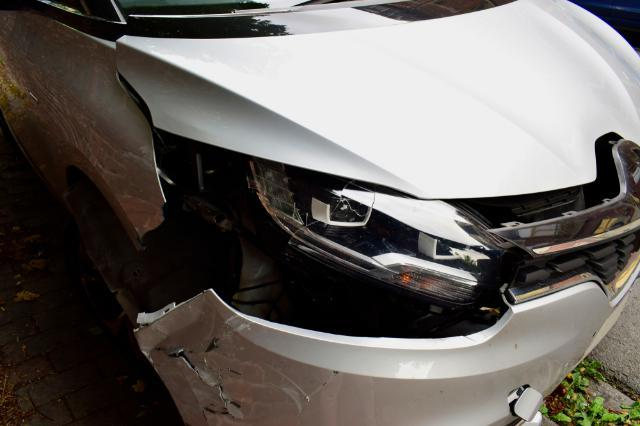crack: (167, 350, 244, 422)
dislocated part: (133, 197, 598, 423)
lamp broken: (248, 164, 500, 303)
no part: (155, 128, 288, 241)
scratch: (154, 315, 253, 426)
